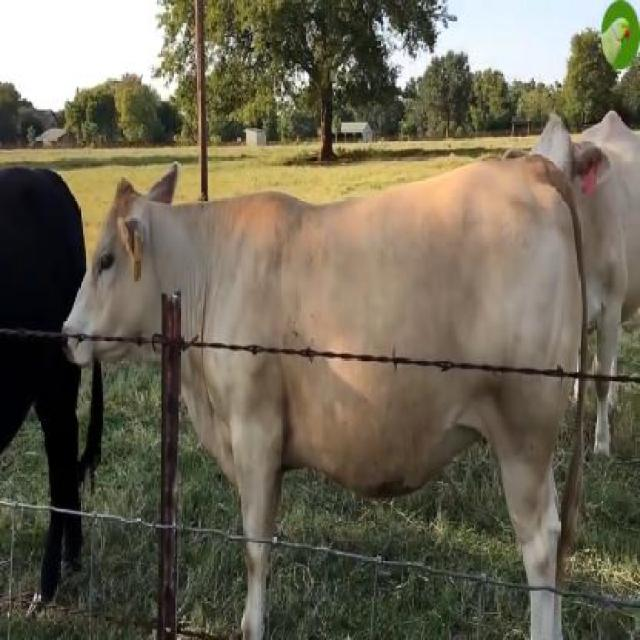Cow: (62, 166, 590, 639)
